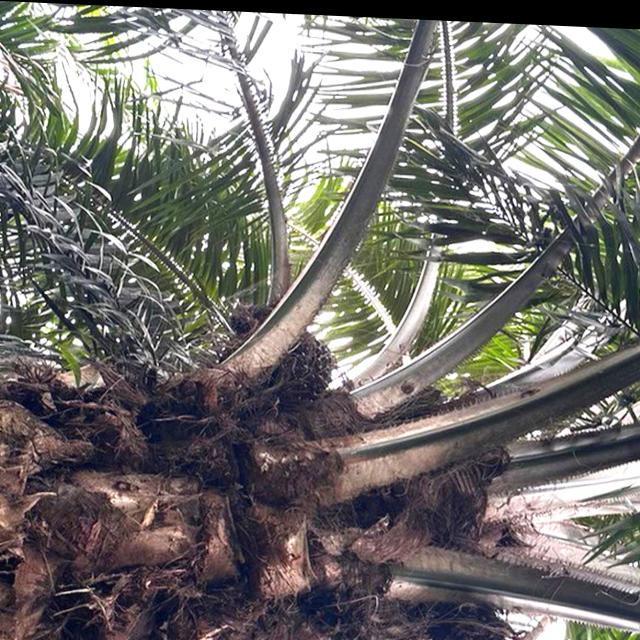almost: (226, 295, 346, 410)
